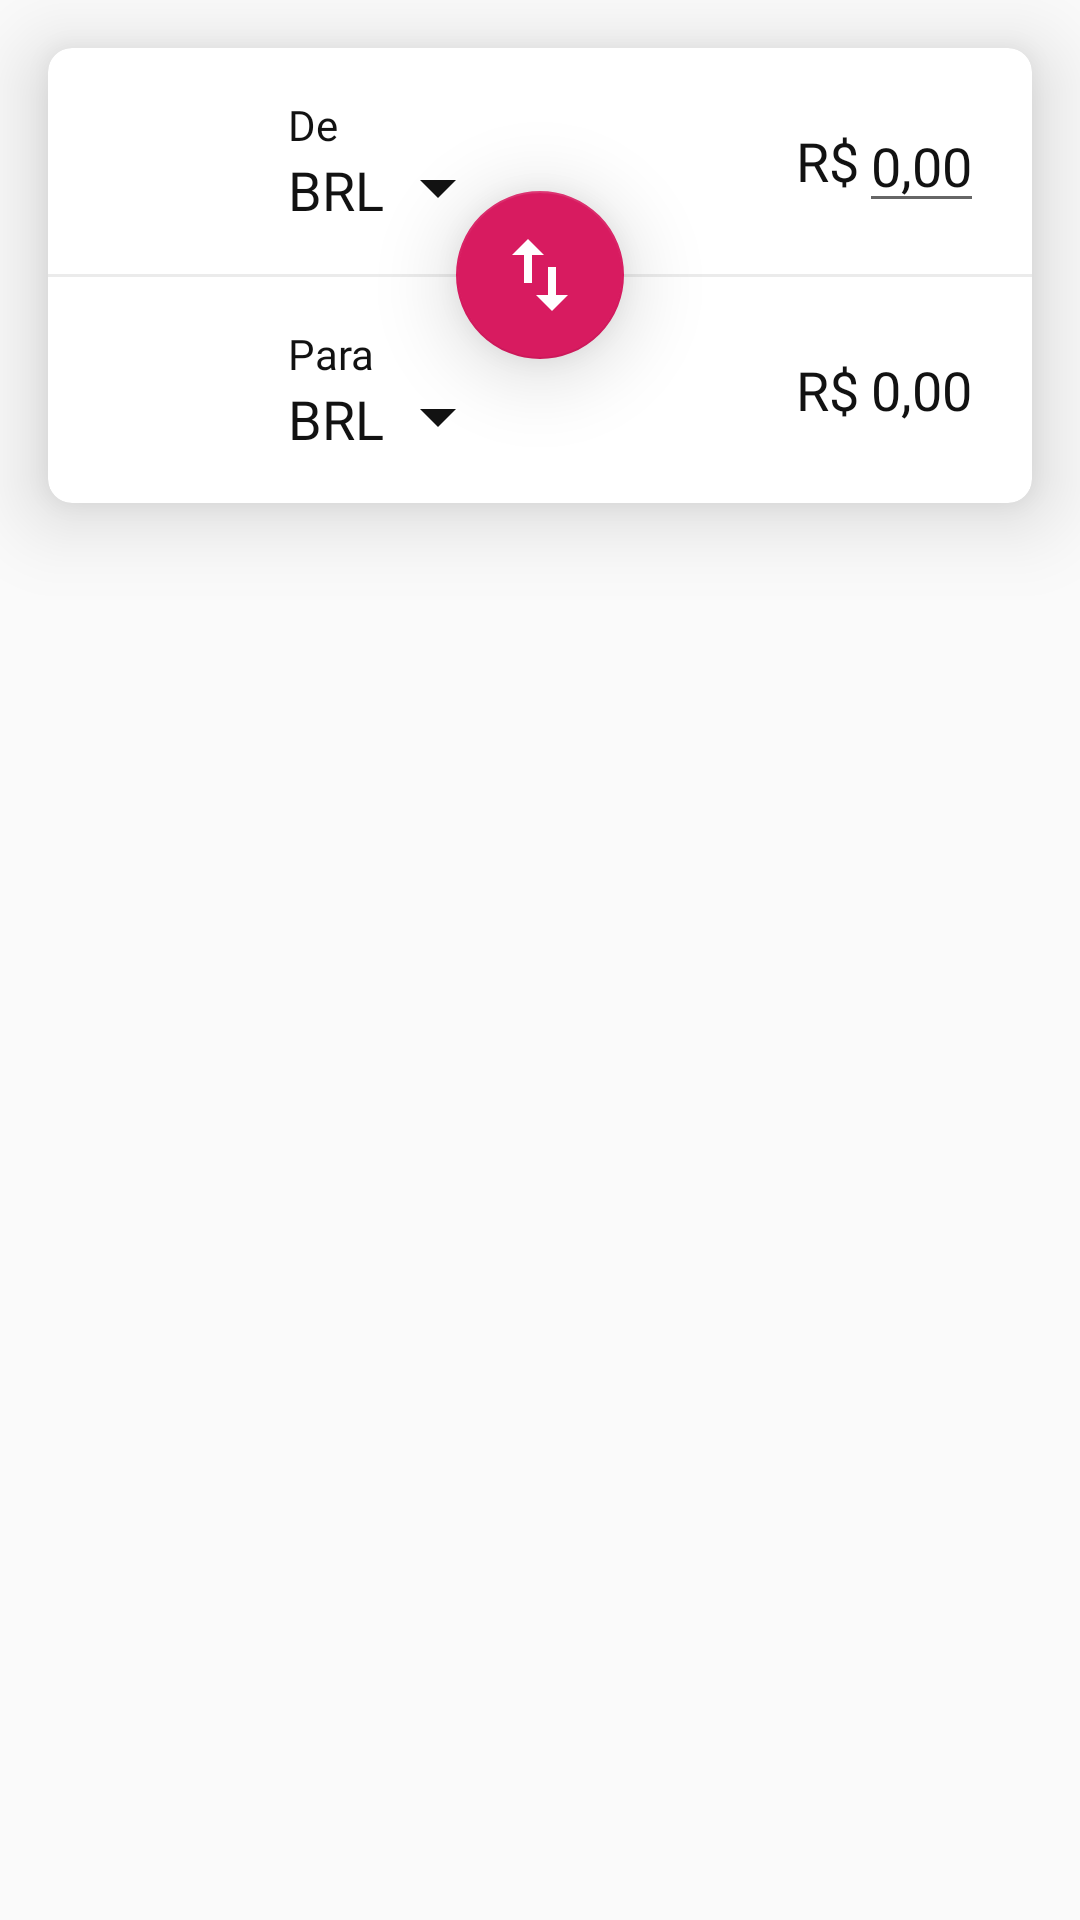

Point at icon controls on the screen. Image size 1080 x 1920, points as point (x, y).
change: point (540, 275)
drop down arrow: point (438, 189), point (438, 418)
